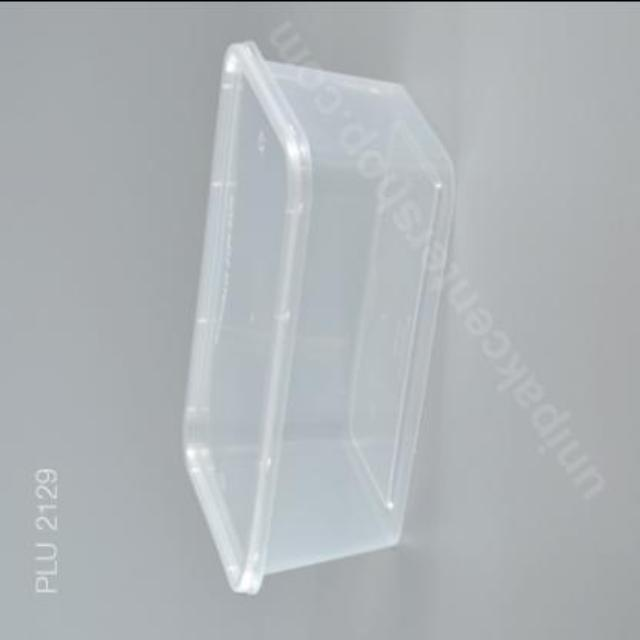plastic_box: (180, 38, 456, 590)
